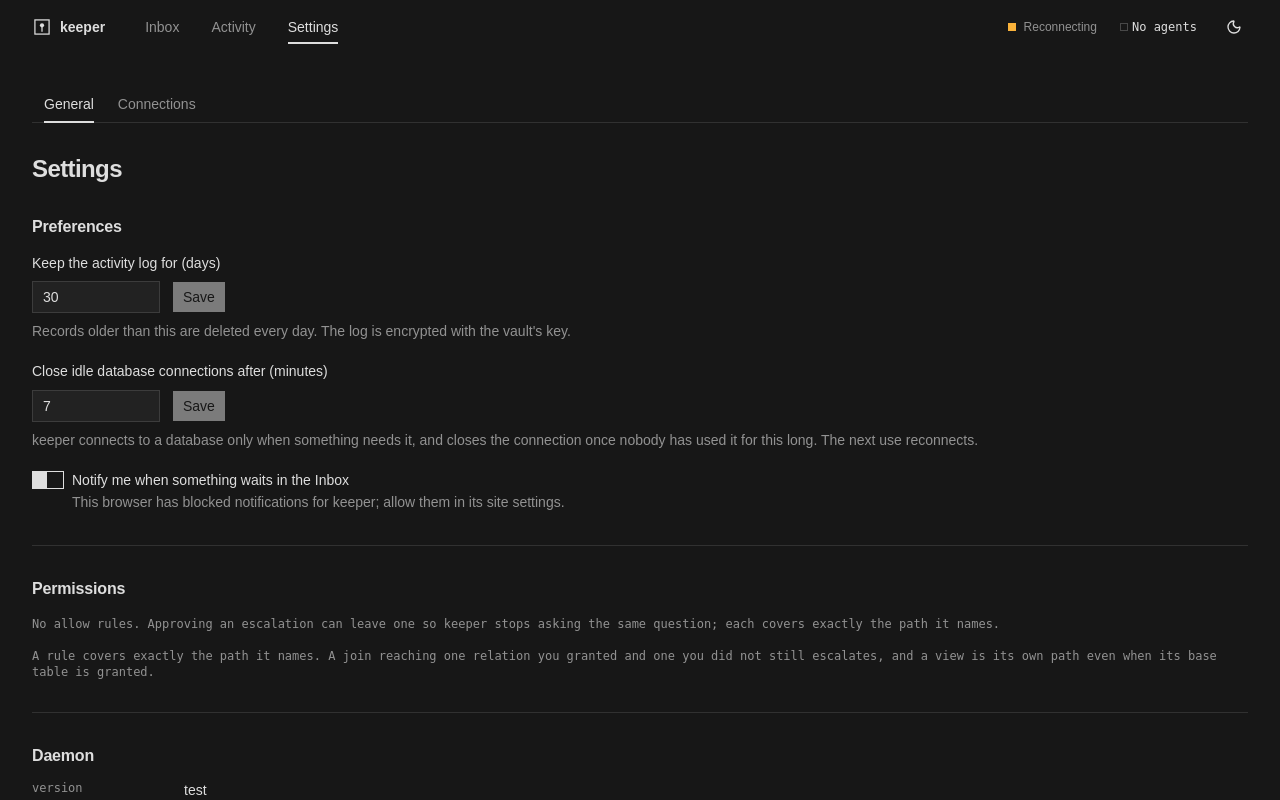
Test case: connections without a status › LAZY-C11 Settings shows the idle limit, and saving it sends it
Replace the text in the field labelled "Close idle database connections after (minutes)" with "9" at (96, 406), box [32,390,160,422]
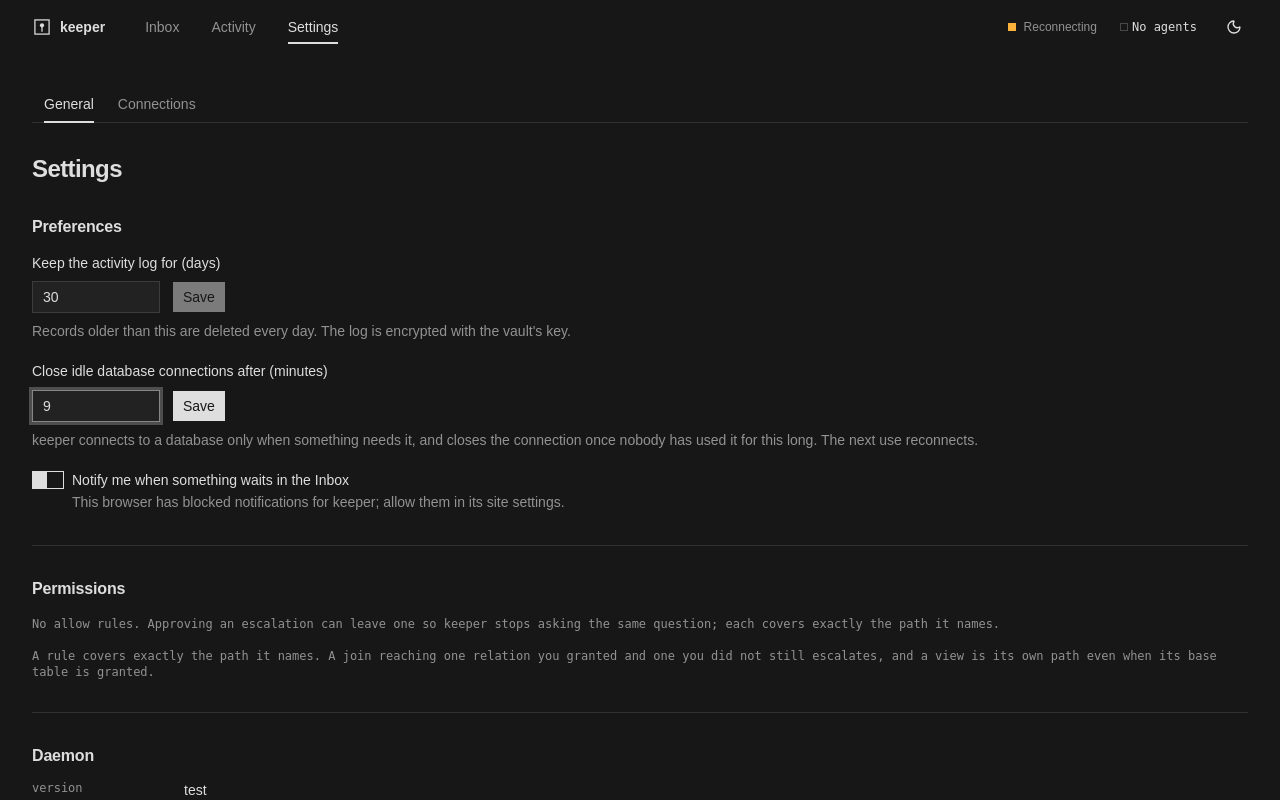
Click the 2nd button "Save" at (199, 406), box [172,390,226,422]
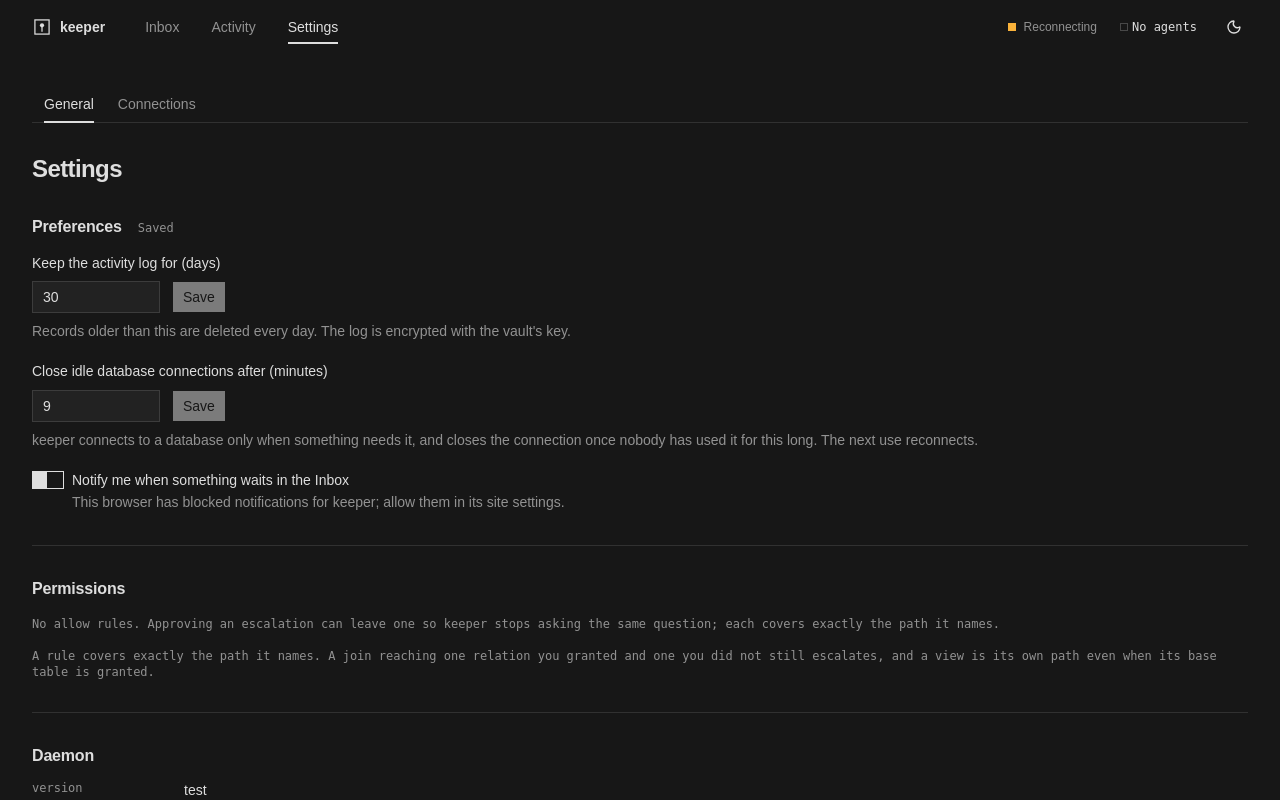
Expected: the text "Saved" is shown, [138,220,174,236]
